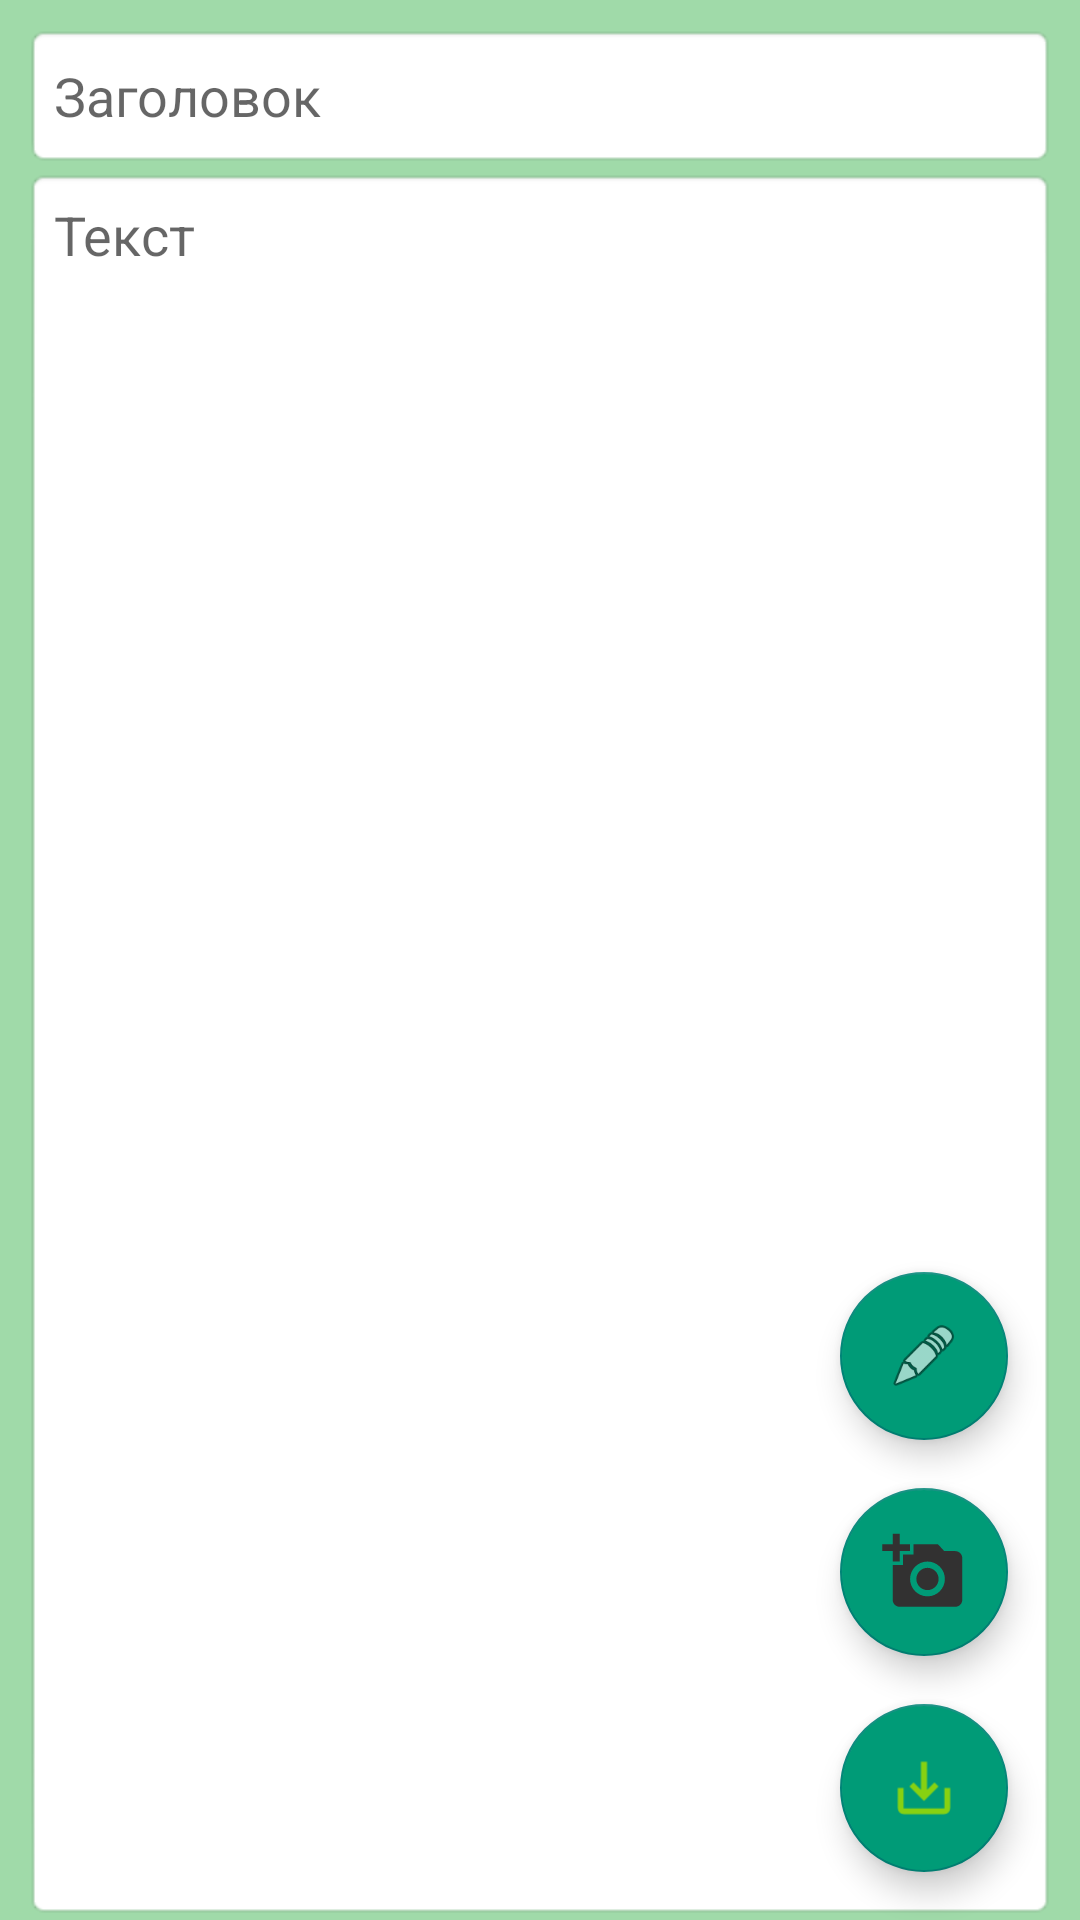

Icons on this 1080w x 1920h Android screen, each with the point to tap as point (x, y):
addphoto: point (924, 1572)
edit: point (924, 1356)
save: point (924, 1788)
